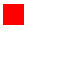square: (3, 4, 23, 24)
